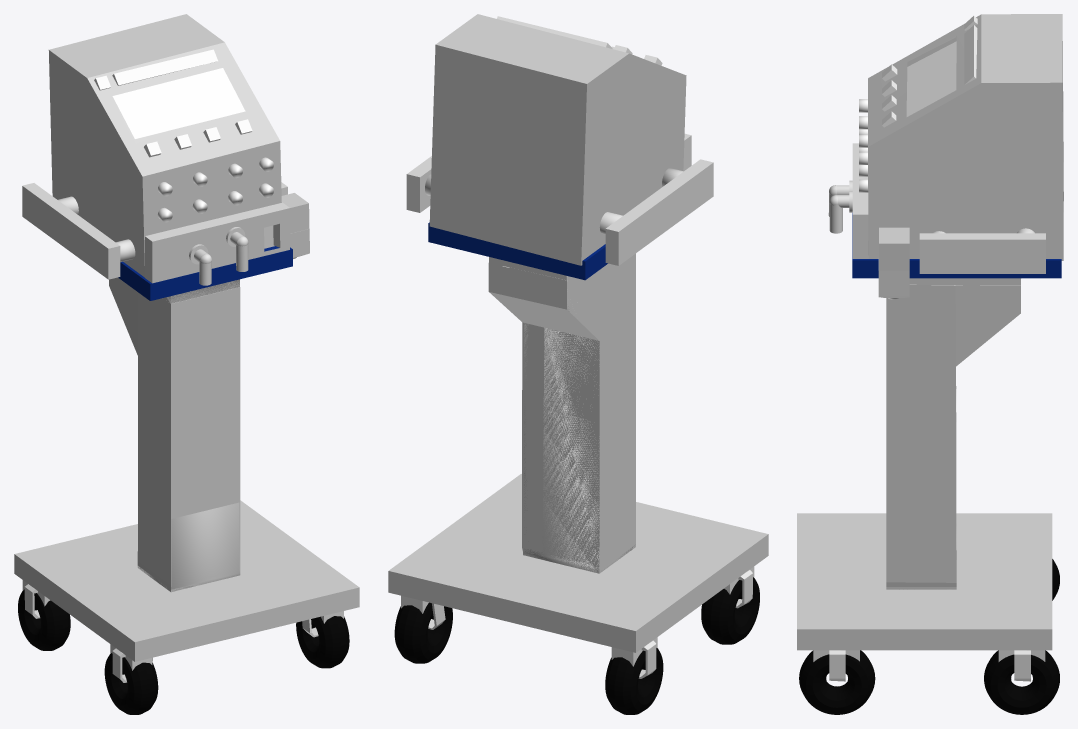
File: ventiladorneonatal.glb
3 views of the same model, side by side, from view 1: azimuth 30°, elevation 25°; view 2: azimuth 150°, elevation 25°; view 3: azimuth 270°, elevation 25° (orthographic). The views are drawn at different scales.
Visible parts, largest first — view 1: Cubo.011, Cubo.009, Cubo, Cubo.031, Cubo.032, Cubo.022, Cubo.030, Cubo.014, Toroide.004, Toroide.003, Toroide.001, Cubo.038 (+1 smaller); view 2: Cubo.011, Cubo.009, Cubo, Cubo.022, Cubo.014, Toroide.001, Toroide.004, Toroide.002, Cubo.026, Cubo.006; view 3: Cubo.011, Cubo, Cubo.009, Cubo.026, Toroide.003, Toroide.002, Cubo.031, Cubo.030, Cubo.028, Cubo.014, Cubo.001, Cubo.007 (+1 smaller).
Boxes of the visible parts, <box> form: Cubo.011: <box>48,14,281,276</box>; Cubo.009: <box>109,277,240,592</box>; Cubo: <box>14,500,359,661</box>; Cubo.031: <box>112,68,245,138</box>; Cubo.032: <box>152,208,290,283</box>; Cubo.022: <box>22,183,120,279</box>; Cubo.030: <box>144,202,289,285</box>; Cubo.014: <box>118,246,292,300</box>; Toroide.004: <box>104,653,158,714</box>; Toroide.003: <box>296,616,349,668</box>; Toroide.001: <box>18,589,70,650</box>; Cubo.038: <box>112,49,217,85</box>; Cubo.011: <box>429,14,686,265</box>; Cubo.009: <box>488,253,635,573</box>; Cubo: <box>388,474,768,652</box>; Cubo.022: <box>605,159,713,265</box>; Cubo.014: <box>428,222,607,280</box>; Toroide.001: <box>605,648,663,714</box>; Toroide.004: <box>701,577,759,644</box>; Toroide.002: <box>394,602,452,663</box>; Cubo.026: <box>406,156,431,212</box>; Cubo.006: <box>611,637,657,678</box>; Cubo.011: <box>868,14,1063,260</box>; Cubo: <box>797,513,1052,650</box>; Cubo.009: <box>886,278,1021,589</box>; Cubo.026: <box>919,233,1045,273</box>; Toroide.003: <box>799,650,875,714</box>; Toroide.002: <box>984,650,1059,714</box>; Cubo.031: <box>906,41,956,116</box>; Cubo.030: <box>828,143,868,258</box>; Cubo.028: <box>878,227,909,297</box>; Cubo.014: <box>852,213,1061,278</box>; Cubo.001: <box>998,650,1045,681</box>; Cubo.007: <box>813,650,859,681</box>.
Size of the model in its own units: 50.5 by 125 by 48.98.
